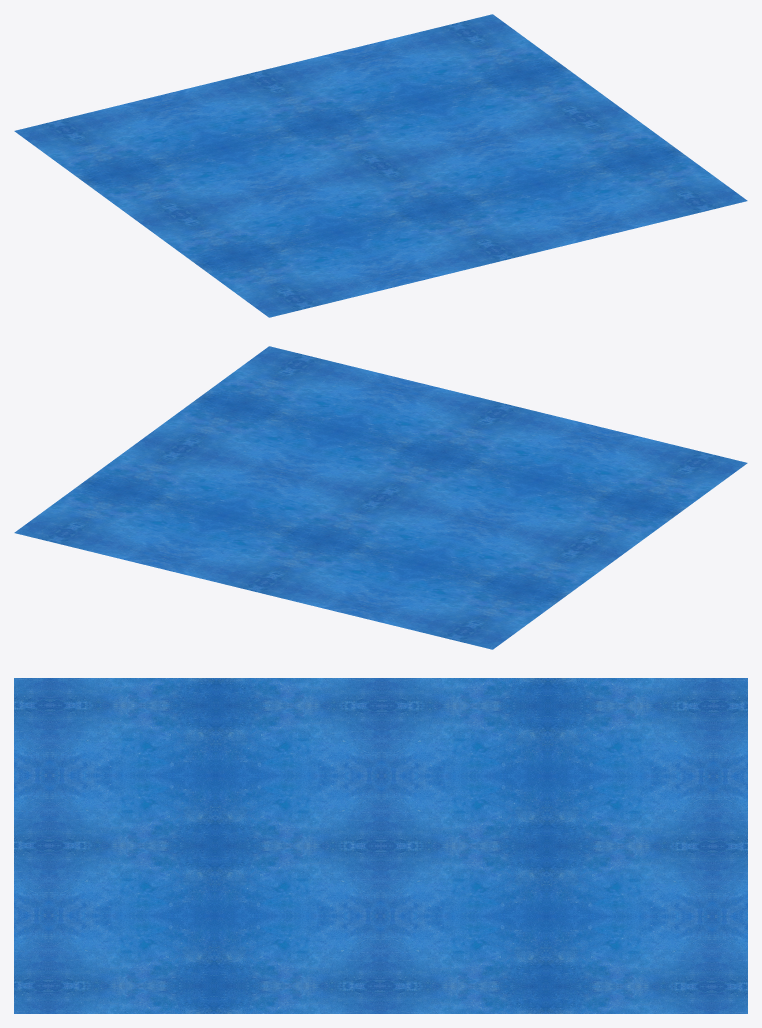
Rendered from floor.dae.
The picture shows the model from 3 angles, top to bottom: view 1: azimuth 30°, elevation 25°; view 2: azimuth 150°, elevation 25°; view 3: azimuth 270°, elevation 25°; orthographic projection. The views are drawn at different scales.
Parts seen in each view (by area): view 1: Testbed_Floor; view 2: Testbed_Floor; view 3: Testbed_Floor.
Boxes of the visible parts, x1,y1,x2,y2 form: Testbed_Floor: (14,14,747,317); Testbed_Floor: (14,346,747,649); Testbed_Floor: (14,678,747,1013).
Bounding box in the file's own units: 25.63 × 23.67 × 2.82e-06.
Materials: 1 (1 with a texture image).
